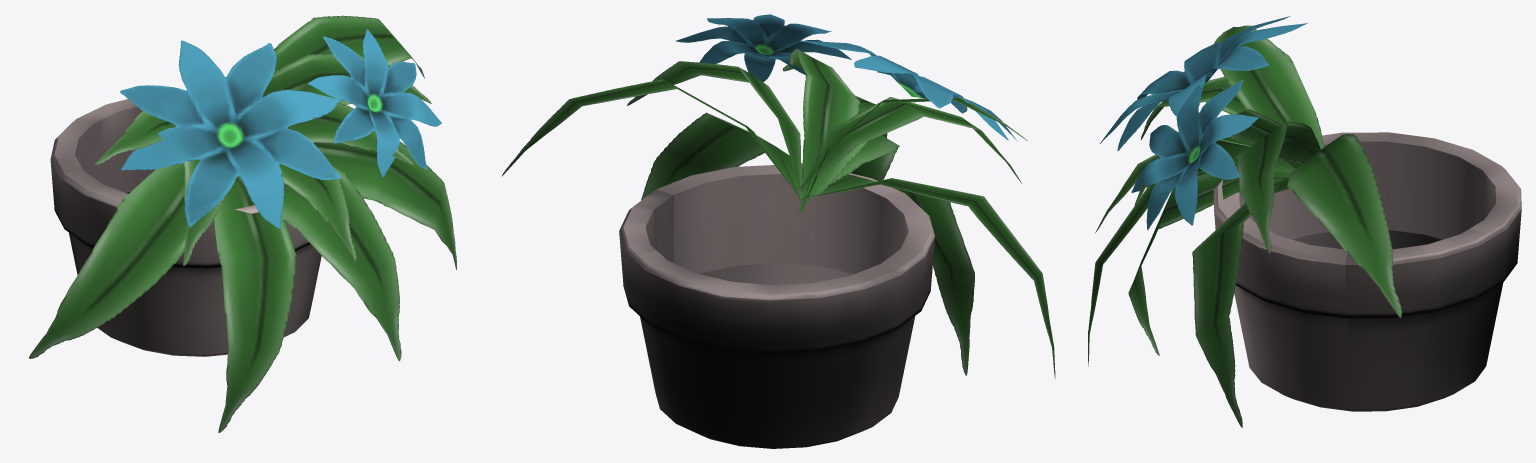
The model's file is FlowerPot_02.fbx.
The picture shows the model from 3 angles, left to right: view 1: azimuth 30°, elevation 25°; view 2: azimuth 150°, elevation 25°; view 3: azimuth 270°, elevation 25°; orthographic projection. The views are drawn at different scales.
Visible parts, largest first — view 1: pPlane29, pCylinder19, pPlane19, pPlane23, pPlane30, pPlane21, pPlane22, pPlane20, pPlane28, pPlane27, pPlane26, pPlane25 (+1 smaller); view 2: pCylinder19, pPlane22, pPlane23, pPlane30, pPlane26, pPlane24, pPlane19, pPlane27, pPlane29, pPlane20, pPlane21, pPlane28 (+1 smaller); view 3: pCylinder19, pPlane20, pPlane30, pPlane22, pPlane29, pPlane25, pPlane27, pPlane23, pPlane21, pPlane26, pPlane24, pPlane28 (+1 smaller).
Part boxes in pixels (x1,y1,x2,y2): pPlane29: [120, 40, 340, 228]; pCylinder19: [50, 99, 321, 356]; pPlane19: [29, 163, 186, 358]; pPlane23: [214, 177, 296, 432]; pPlane30: [308, 29, 441, 177]; pPlane21: [237, 164, 401, 361]; pPlane22: [313, 141, 456, 269]; pPlane20: [274, 15, 424, 78]; pPlane28: [279, 164, 356, 261]; pPlane27: [262, 53, 431, 104]; pPlane26: [277, 89, 413, 165]; pPlane25: [95, 110, 176, 164]; pCylinder19: [619, 165, 934, 448]; pPlane22: [641, 112, 802, 200]; pPlane23: [799, 174, 974, 375]; pPlane30: [676, 14, 851, 82]; pPlane26: [782, 48, 859, 212]; pPlane24: [800, 97, 1021, 189]; pPlane19: [802, 178, 1055, 378]; pPlane27: [627, 61, 800, 189]; pPlane29: [800, 40, 1016, 140]; pPlane20: [501, 79, 799, 197]; pPlane21: [799, 135, 899, 198]; pPlane28: [800, 95, 887, 212]; pCylinder19: [1213, 132, 1521, 411]; pPlane20: [1287, 134, 1401, 317]; pPlane30: [1131, 80, 1258, 229]; pPlane22: [1192, 178, 1288, 427]; pPlane29: [1100, 16, 1307, 150]; pPlane25: [1214, 25, 1323, 164]; pPlane27: [1235, 121, 1320, 253]; pPlane23: [1128, 166, 1293, 355]; pPlane21: [1088, 162, 1292, 366]; pPlane26: [1134, 109, 1303, 205]; pPlane24: [1140, 76, 1282, 139]; pPlane28: [1095, 136, 1298, 232].
Size of the model in its own units: 46.34 by 32.87 by 35.
